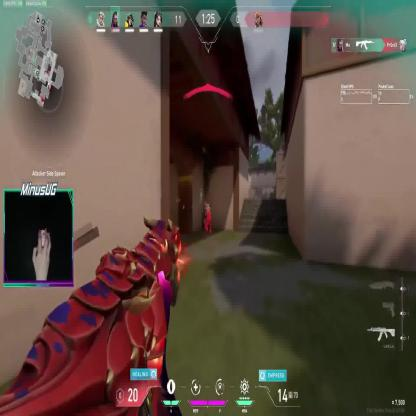enemy: (204, 204, 212, 233)
enemy_head: (206, 204, 210, 210)
